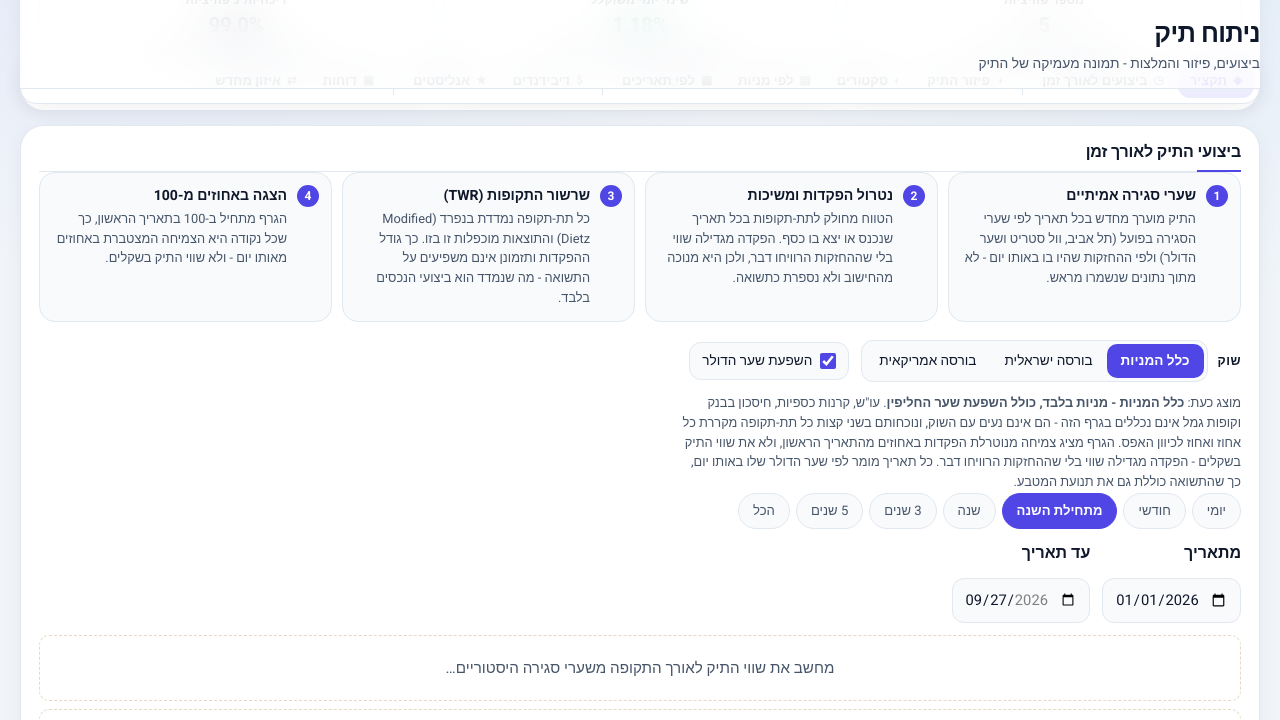
Test: PortfolioAnalysisView › market selection and the FX toggle › FX impact toggle › switching it on says the currency move is now included
(page scrolled)
Click the button "בורסה אמריקאית" at (928, 361), box [865,344,990,378]
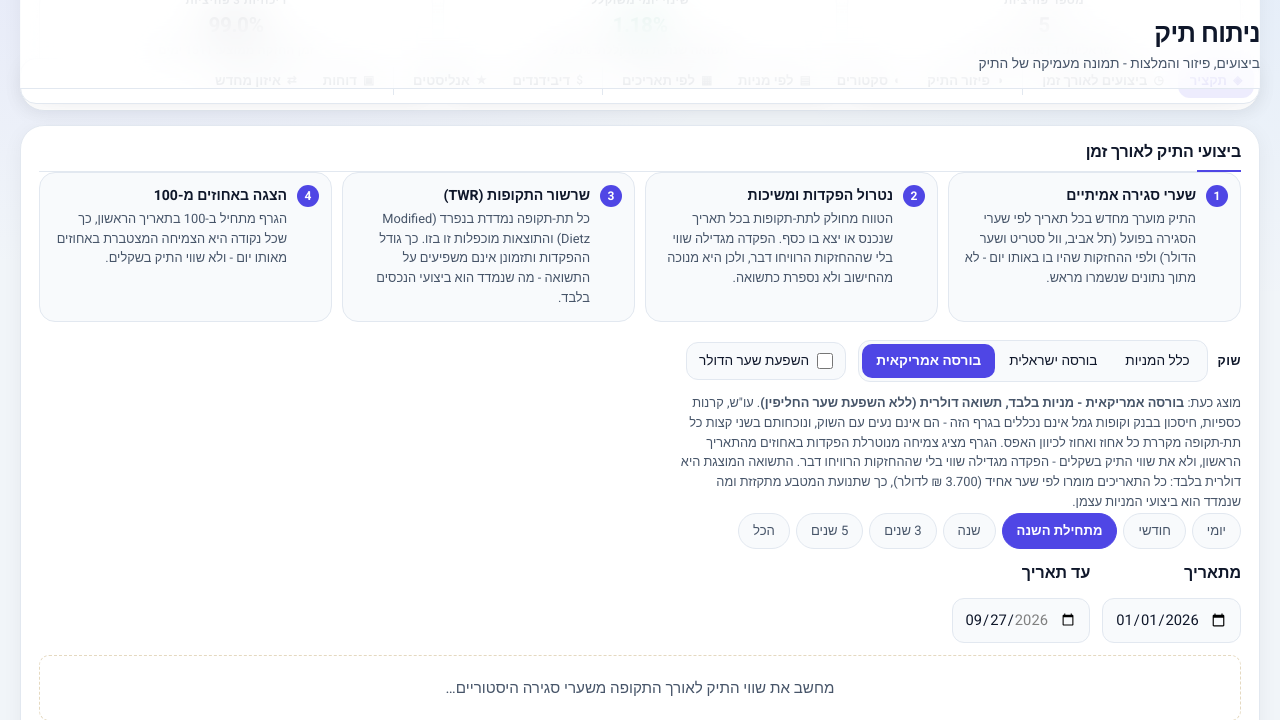
Click the checkbox labelled "השפעת שער הדולר" at (825, 361), box [817,353,833,369]
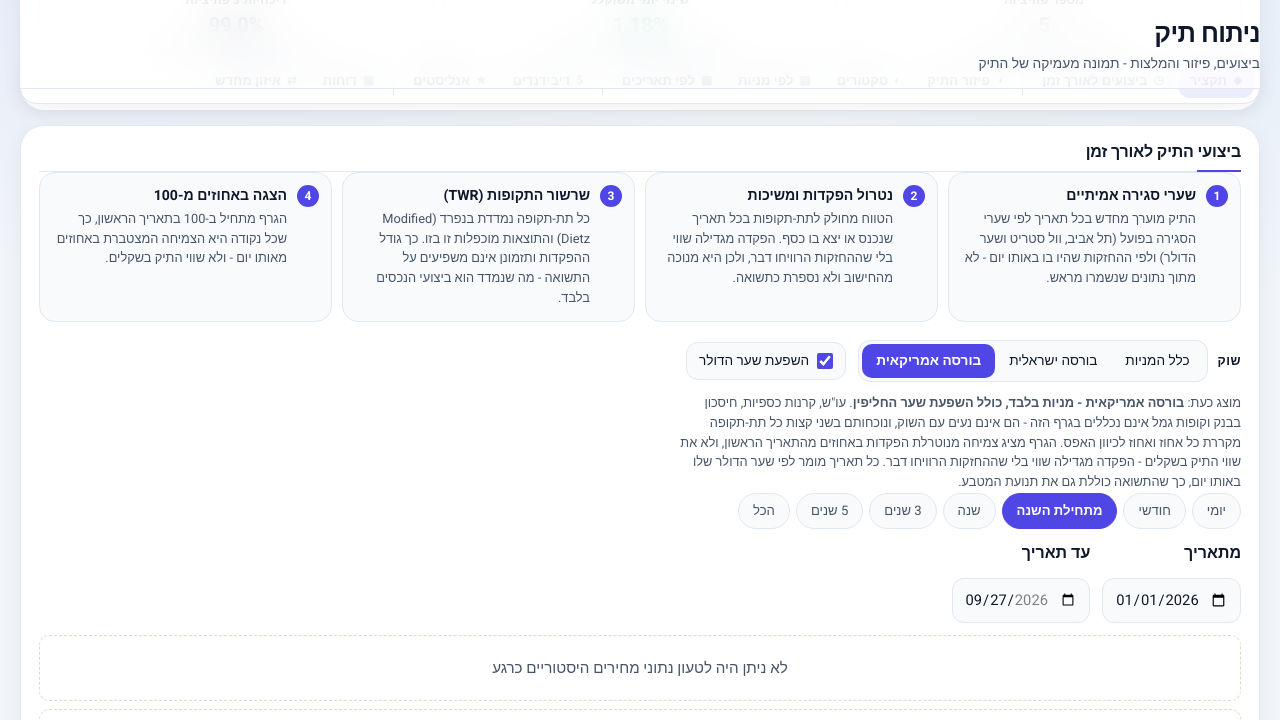
Check: the checkbox labelled "השפעת שער הדולר" is checked, box [817,353,833,369]
Check: the element with class "segment-summary" shows "שער הדולר", box [693,453,1241,491]
